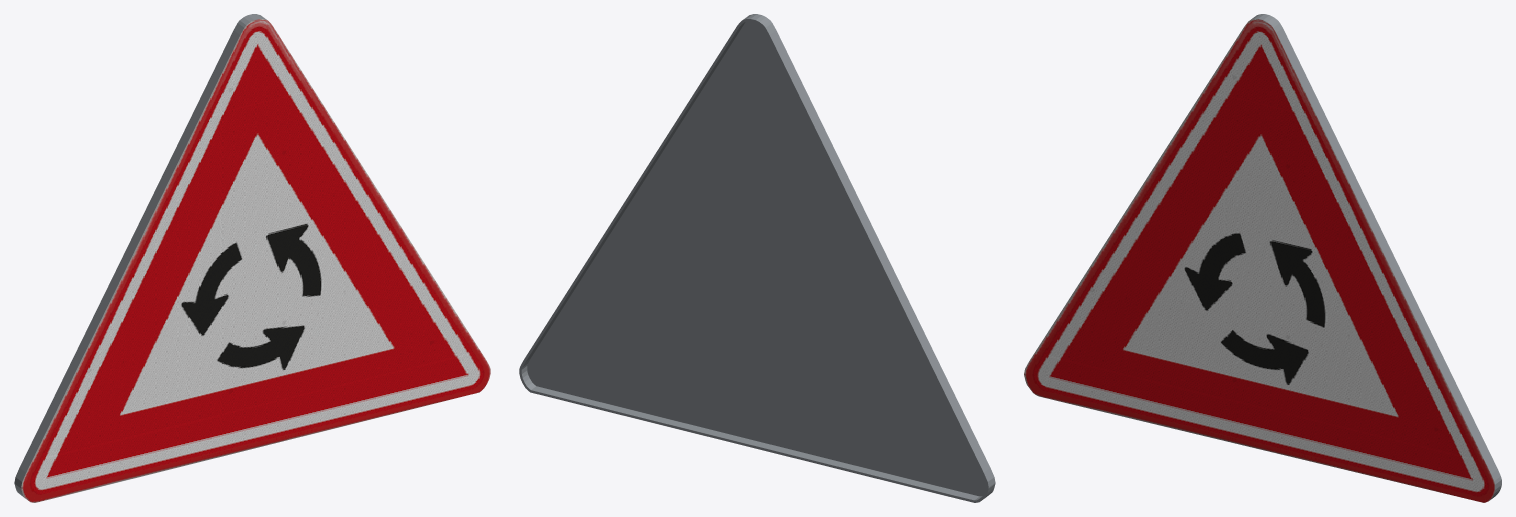
3 views of the same model, side by side, from view 1: azimuth 30°, elevation 25°; view 2: azimuth 150°, elevation 25°; view 3: azimuth 330°, elevation 25° (orthographic).
Visible parts, largest first — view 1: cat_45583cf39bf66def; view 2: cat_45583cf39bf66def; view 3: cat_45583cf39bf66def.
Boxes of the visible parts, x1=… form: cat_45583cf39bf66def: x1=14, y1=14, x2=490, y2=502; cat_45583cf39bf66def: x1=519, y1=14, x2=995, y2=502; cat_45583cf39bf66def: x1=1024, y1=14, x2=1501, y2=502.
Size of the model in its own units: 0.6 by 0.015 by 0.5245.
Materials: 2 (1 with a texture image).
